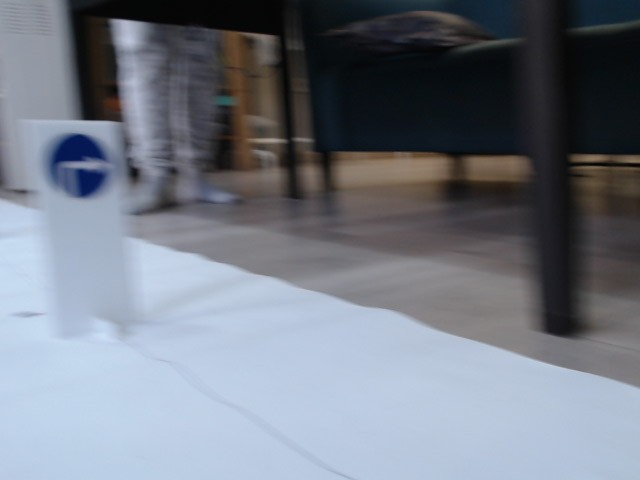Right: (43, 135, 113, 199)
